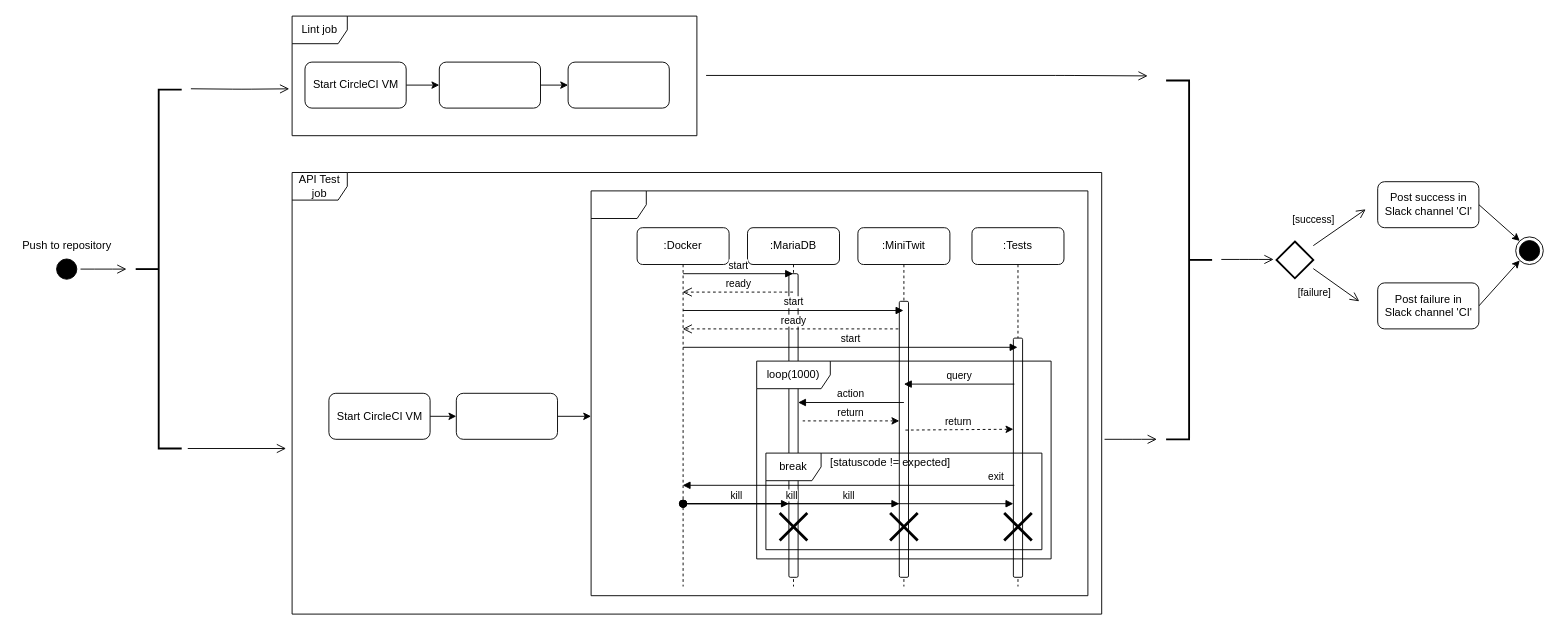
Image size: 1559x630. Some labels were removed from this diagram. Here are the shapes that lost their labels. From the top down, the centre of each, then its label:
(x=489, y=84): Run command 'yarn install'
(x=618, y=84): Run command 'yarn lint'
(x=839, y=393): API Test
(x=506, y=415): Run the command 'docker compose up'
